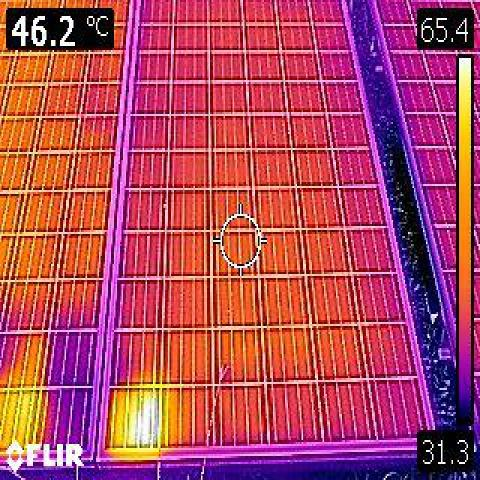fault: (106, 387, 163, 452)
